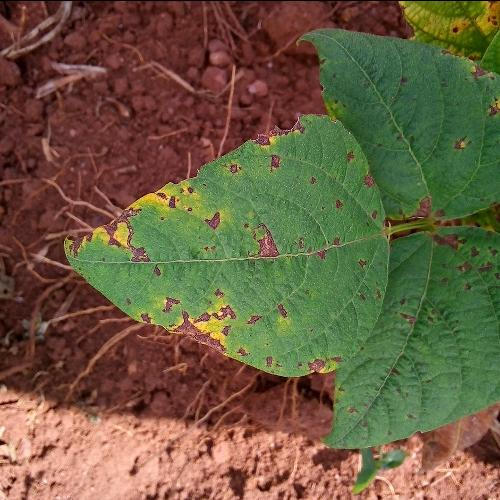mozaik: (66, 118, 332, 384)
